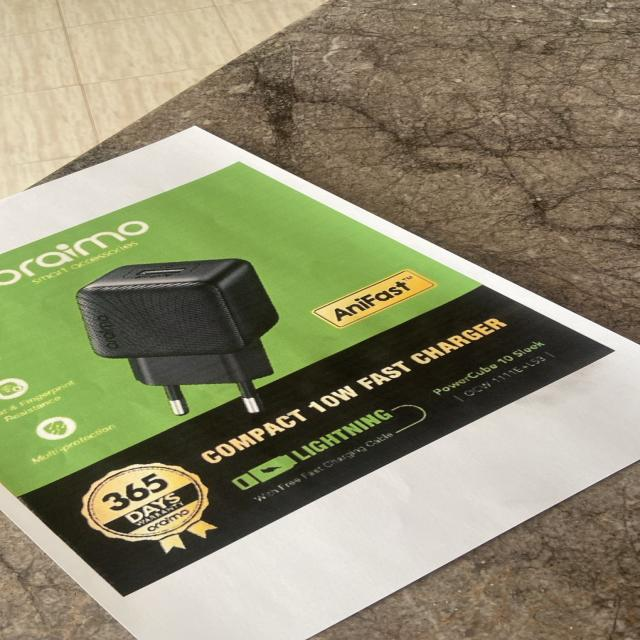PowerCube 10 Sleek OCW-1111ExL53: (424, 337, 573, 407)
